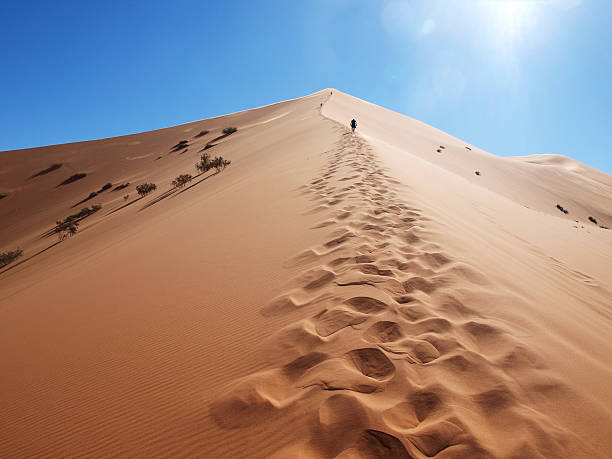human_footprint: (216, 126, 588, 457)
